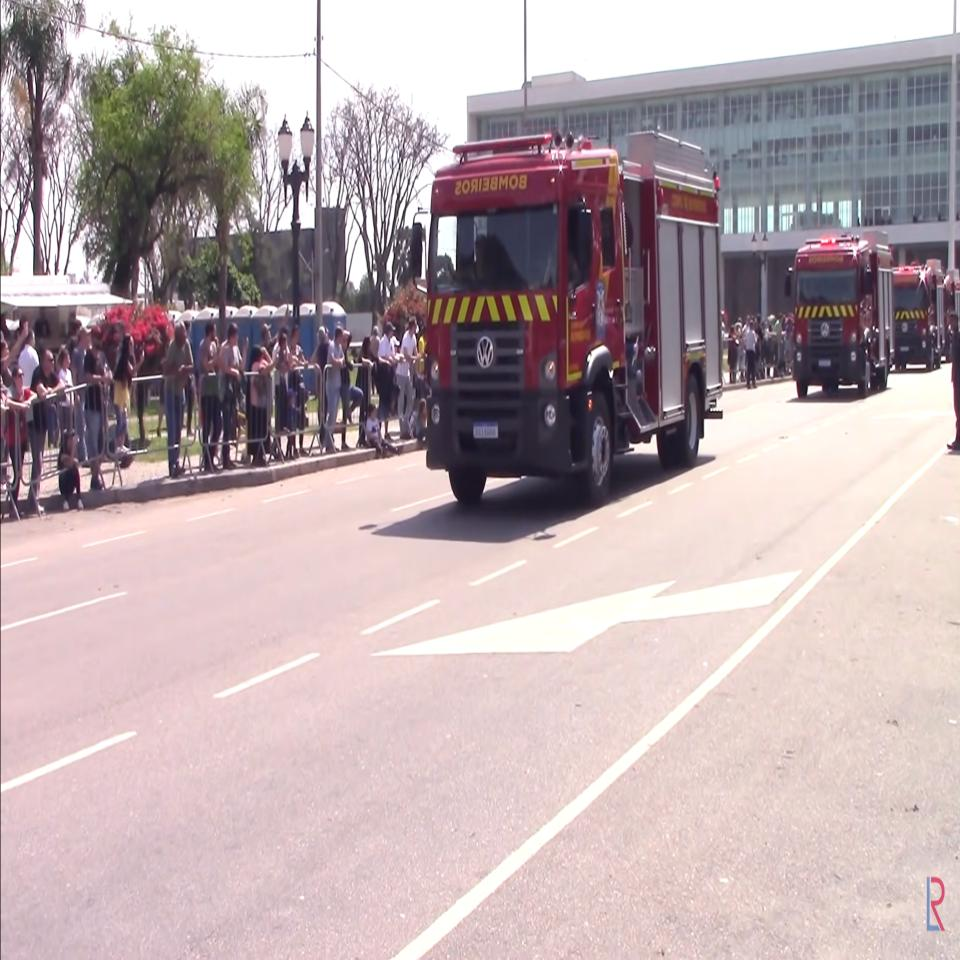viatura: (409, 130, 724, 501), (785, 229, 895, 398), (891, 259, 945, 372)
